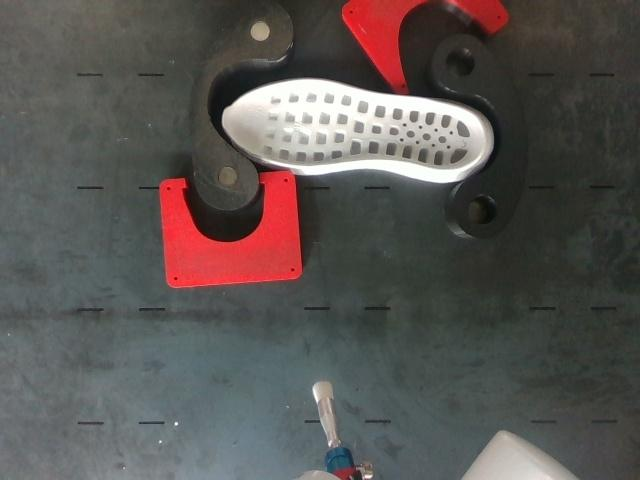shoes: (223, 80, 484, 170)
